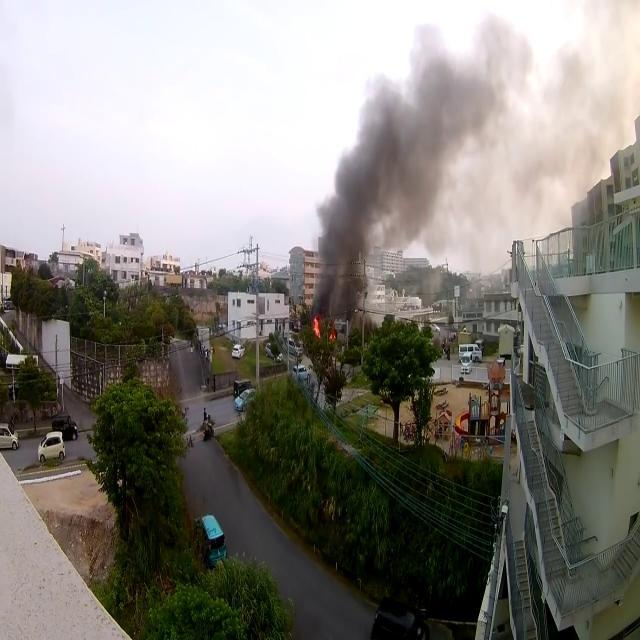Fire: (310, 314, 322, 340)
